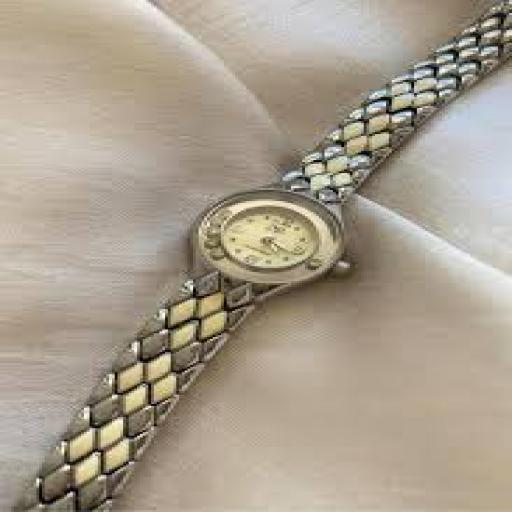KolSaati: (29, 66, 507, 457)
